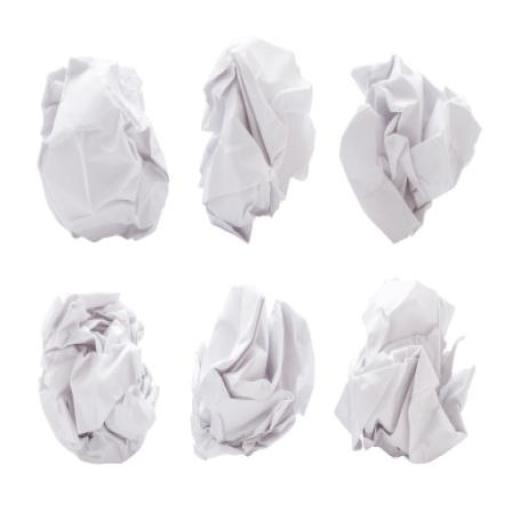paper: (333, 19, 493, 285), (22, 34, 185, 263), (19, 268, 175, 506), (310, 284, 501, 476), (185, 32, 329, 272), (185, 275, 325, 479)
